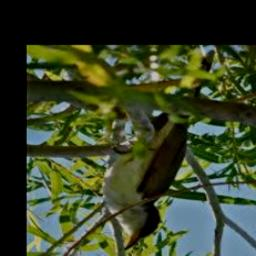Cuckoo: (103, 50, 216, 250)
